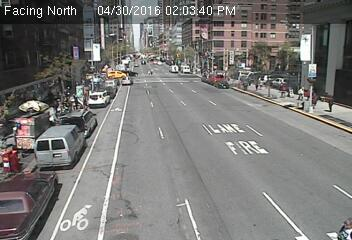neg: (59, 159, 101, 215), (129, 164, 160, 205), (80, 190, 110, 230), (296, 122, 326, 161), (210, 129, 237, 165), (125, 105, 149, 137), (264, 132, 287, 163), (81, 98, 104, 128), (228, 42, 249, 71), (57, 134, 76, 159), (79, 90, 94, 110), (194, 28, 202, 38)
pos: (322, 90, 339, 113), (45, 108, 62, 131), (308, 90, 323, 111), (277, 80, 291, 98), (297, 85, 310, 102), (147, 68, 153, 76)
